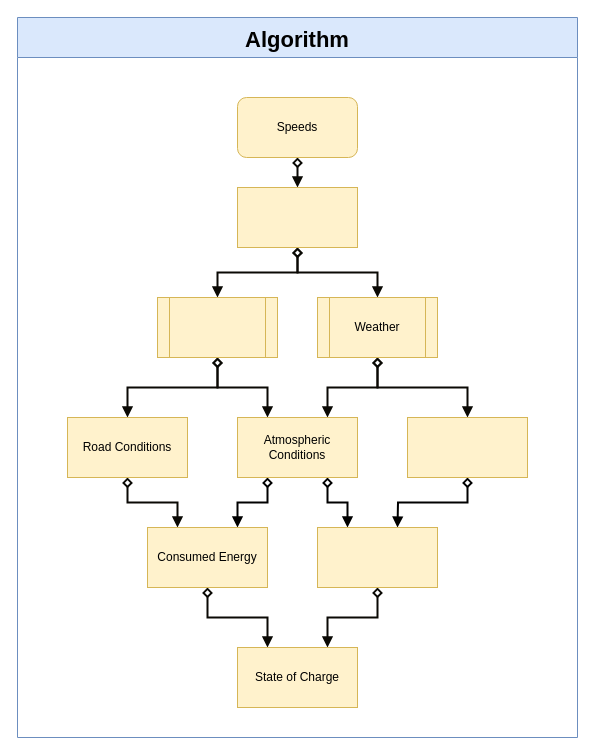
Some shapes in this 595 by 755 pixel diagram are drawn without their labels. Here are the shapes that lost their labels. From the top down, the centre of each, then its label:
At point (297, 217): "Theoretical Position".
At point (217, 327): "GIS".
At point (467, 447): "Solar Conditions".
At point (377, 557): "Produced Energy".
